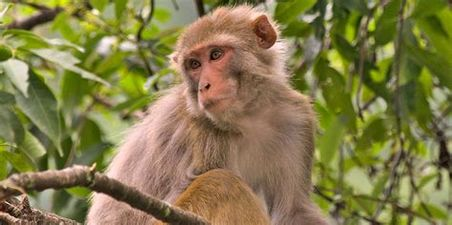monkey: (122, 12, 358, 216)
